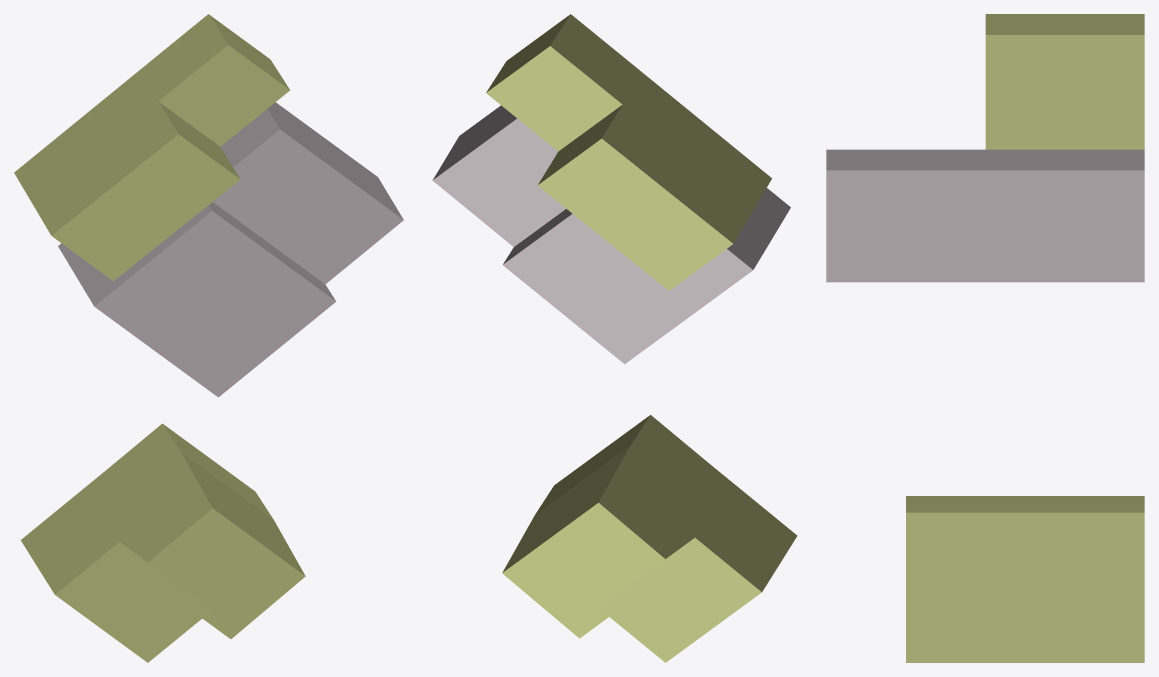
3 renders of one model, left to right at view 1: azimuth 30°, elevation 25°; view 2: azimuth 150°, elevation 25°; view 3: azimuth 270°, elevation 25°, orthographic. The views are drawn at different scales.
Parts seen in each view (by area): view 1: 0_1_2_0_3_3_0_2_0_1; view 2: 0_1_2_0_3_3_0_2_0_1; view 3: 0_1_2_0_3_3_0_2_0_1.
Part boxes in pixels (box(x1,y1,x2,y2)): 0_1_2_0_3_3_0_2_0_1: box(14, 14, 403, 662); 0_1_2_0_3_3_0_2_0_1: box(432, 14, 797, 662); 0_1_2_0_3_3_0_2_0_1: box(826, 14, 1144, 662).
Bounding box in the file's own units: 14.84 × 28.99 × 12.
